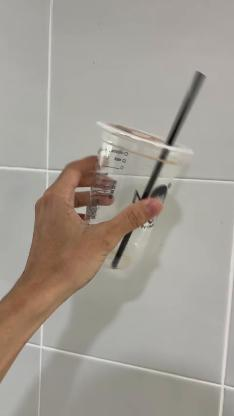Plastic Cup: (86, 116, 194, 270)
